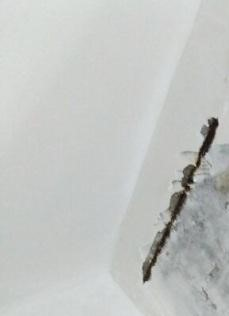Exposed reinforcement: (141, 115, 220, 284)
